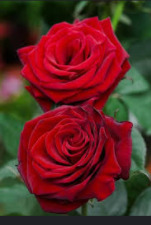RedRose: (15, 102, 138, 205), (13, 15, 131, 105)
